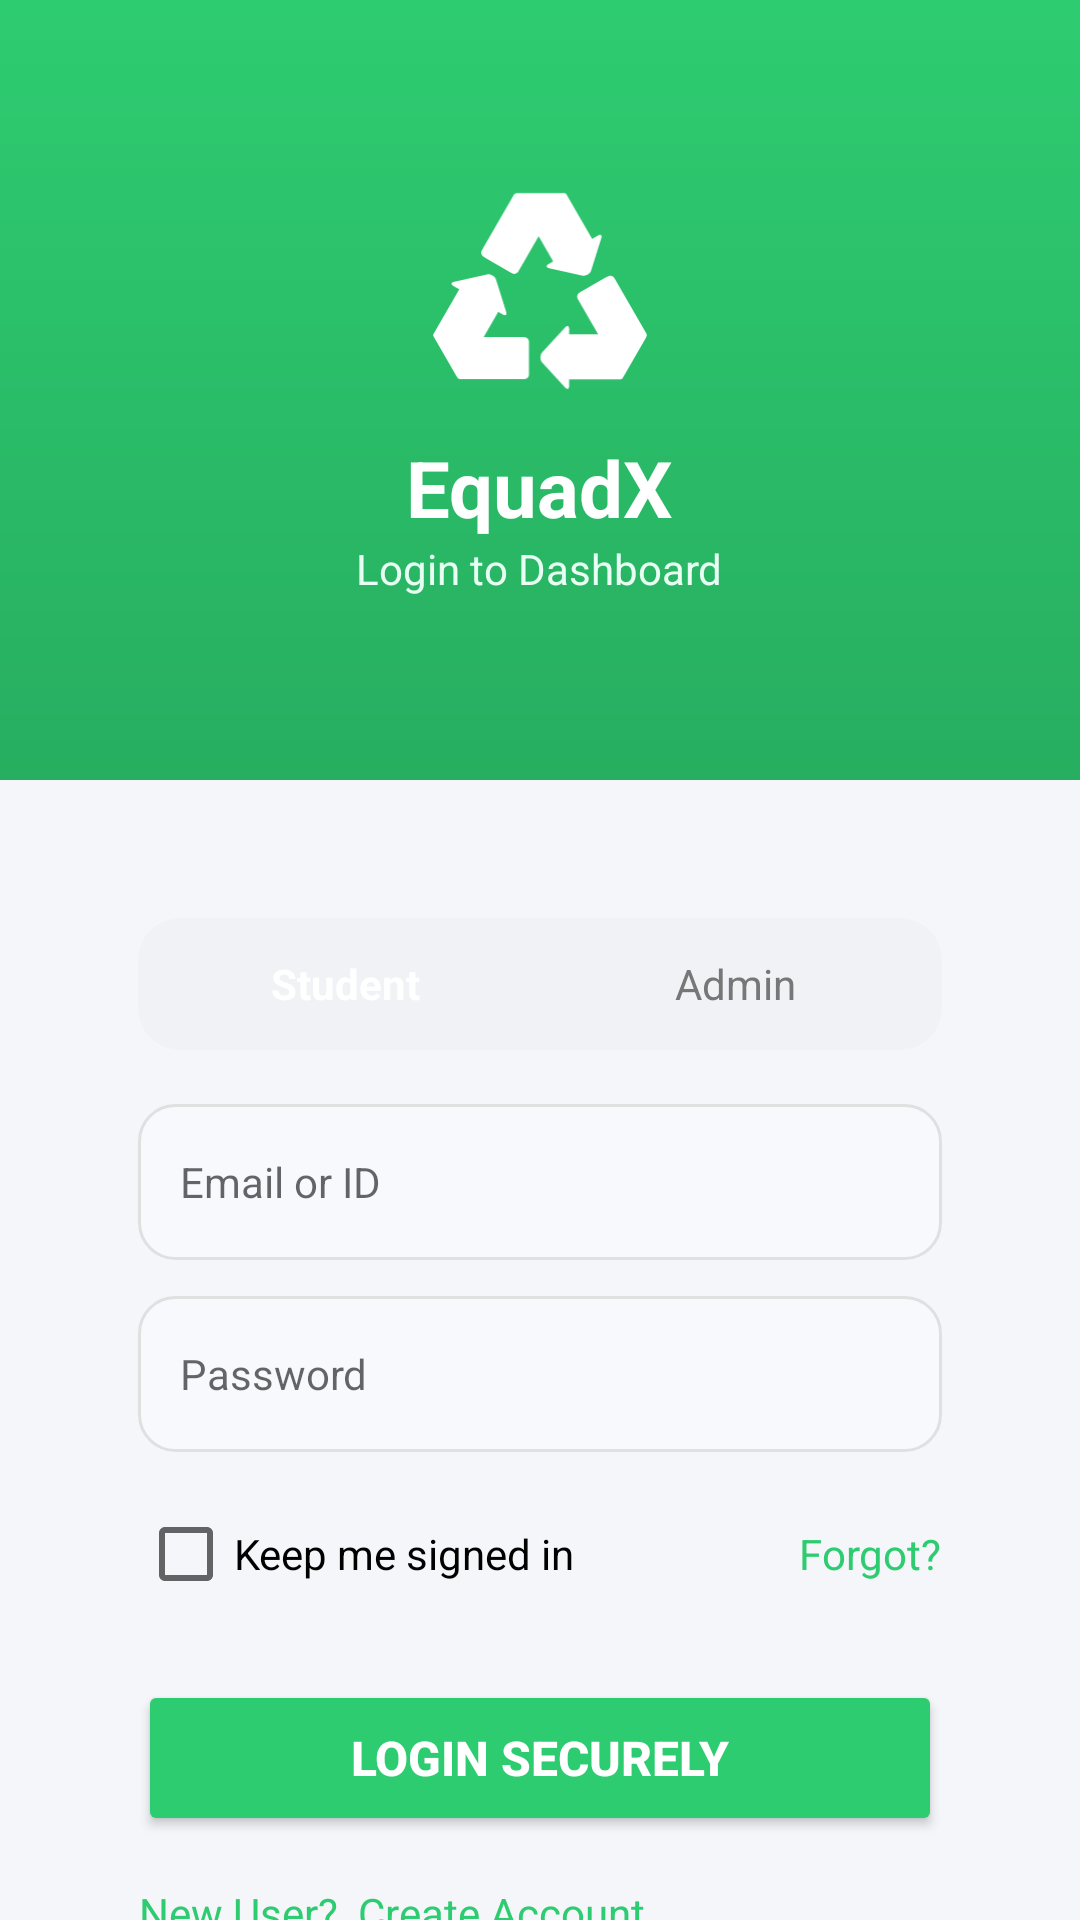

Icon bounding boxes for this 1080*1920 phone screenshot, format [x1,y1,x2,y2]:
recycle: [433,193,647,389]
